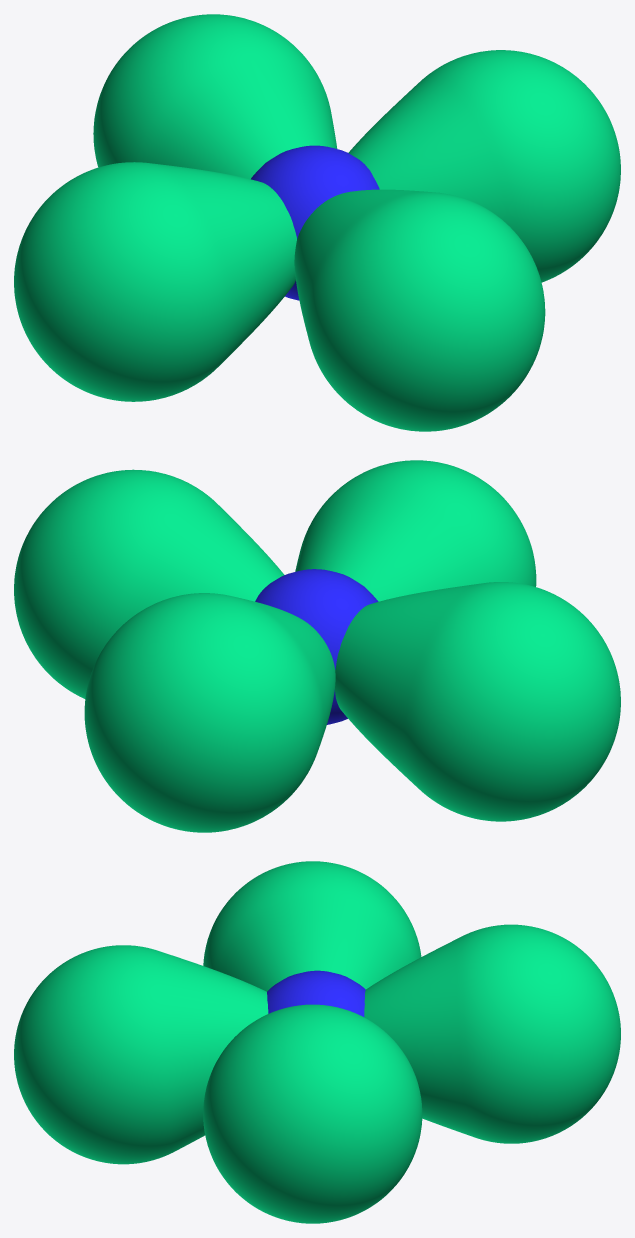
The picture shows the model from 3 angles, top to bottom: view 1: azimuth 30°, elevation 25°; view 2: azimuth 150°, elevation 25°; view 3: azimuth 270°, elevation 25°; orthographic projection. The views are drawn at different scales.
Visible parts, largest first — view 1: Sphere.004, Sphere.002, Sphere.003, Sphere.001, Sphere; view 2: Sphere.004, Sphere.001, Sphere.003, Sphere.002, Sphere; view 3: Sphere.001, Sphere.002, Sphere.003, Sphere.004, Sphere.
Boxes of the visible parts, box(x1,y1,x2,y2) form: Sphere.004: box(14, 162, 296, 401); Sphere.002: box(294, 189, 545, 431); Sphere.003: box(348, 50, 620, 282); Sphere.001: box(93, 14, 337, 179); Sphere: box(251, 145, 379, 300); Sphere.004: box(335, 582, 620, 821); Sphere.001: box(84, 593, 335, 832); Sphere.003: box(14, 469, 284, 698); Sphere.002: box(295, 460, 536, 601); Sphere: box(255, 569, 378, 724); Sphere.001: box(364, 924, 620, 1143); Sphere.002: box(14, 945, 268, 1164); Sphere.003: box(203, 1004, 422, 1223); Sphere.004: box(203, 861, 421, 991); Sphere: box(267, 970, 365, 1016).
Size of the model in its own units: 5.54 by 2.21 by 5.54.
Materials: 5 (1 with a texture image).
